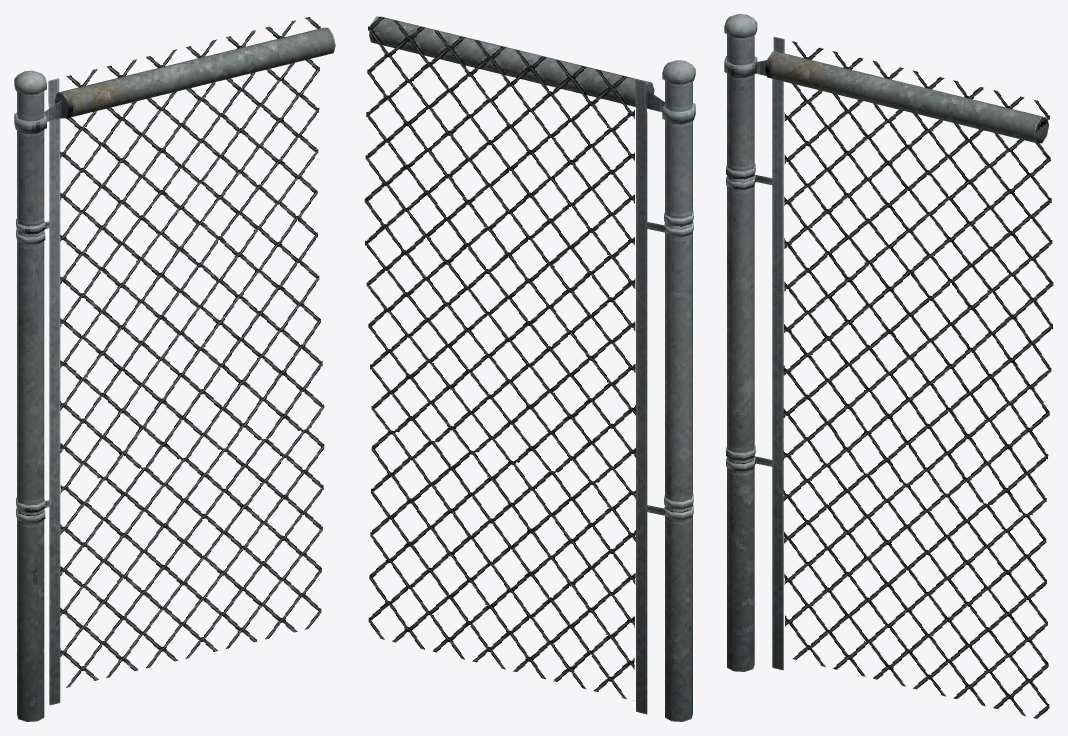
The model's file is chain_link_fence_end_right.glb.
The picture shows the model from 3 angles, left to right: view 1: azimuth 30°, elevation 25°; view 2: azimuth 150°, elevation 25°; view 3: azimuth 330°, elevation 25°; orthographic projection.
Parts seen in each view (by area): view 1: chain_link_fence_end_right; view 2: chain_link_fence_end_right; view 3: chain_link_fence_end_right.
Boxes of the visible parts, x1=… form: chain_link_fence_end_right: x1=14, y1=17, x2=335, y2=721; chain_link_fence_end_right: x1=364, y1=16, x2=695, y2=721; chain_link_fence_end_right: x1=724, y1=14, x2=1053, y2=718.
Size of the model in its own units: 1.05 by 2.06 by 0.1165.
2 materials, 2 textured.
